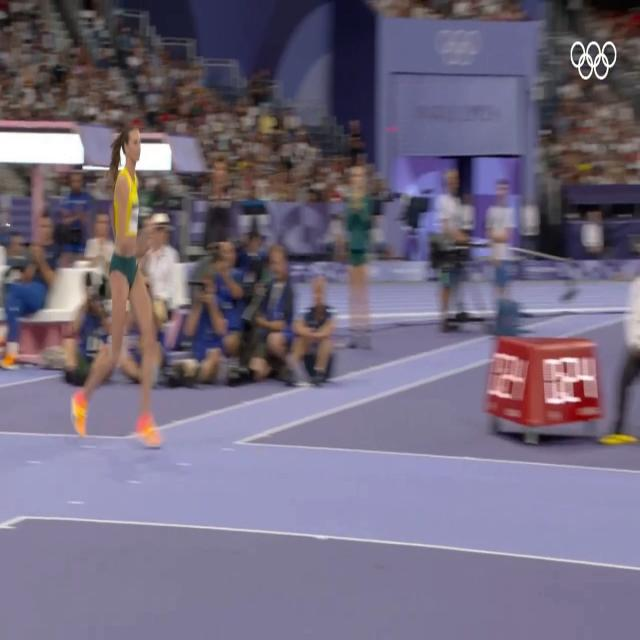run: (76, 124, 162, 452)
